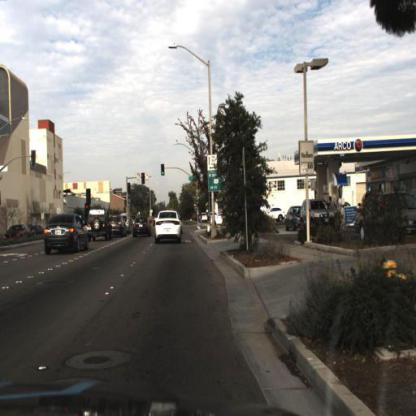car: (358, 189, 416, 249), (352, 193, 416, 243), (44, 215, 91, 255), (153, 207, 182, 246), (302, 197, 332, 230), (86, 207, 111, 238), (287, 196, 303, 237), (132, 212, 153, 240), (108, 211, 126, 241), (285, 204, 303, 233), (27, 220, 41, 245)
pedestrian: (328, 190, 339, 237), (327, 195, 338, 226)
trafficLight-Green: (161, 161, 169, 181), (158, 162, 166, 178)
trafficLight-Red: (140, 168, 147, 186), (127, 181, 133, 195)
